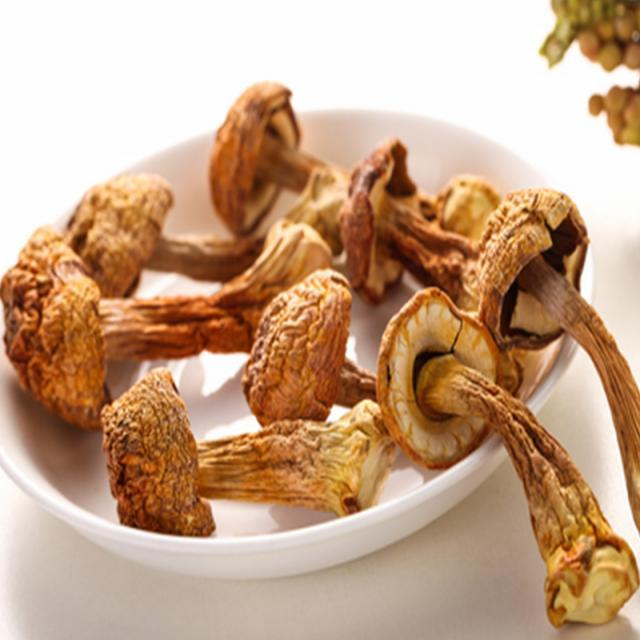Agaricus blazei Murill: (374, 287, 639, 627), (2, 227, 340, 418), (481, 190, 640, 531), (99, 367, 371, 530), (242, 270, 403, 414)
